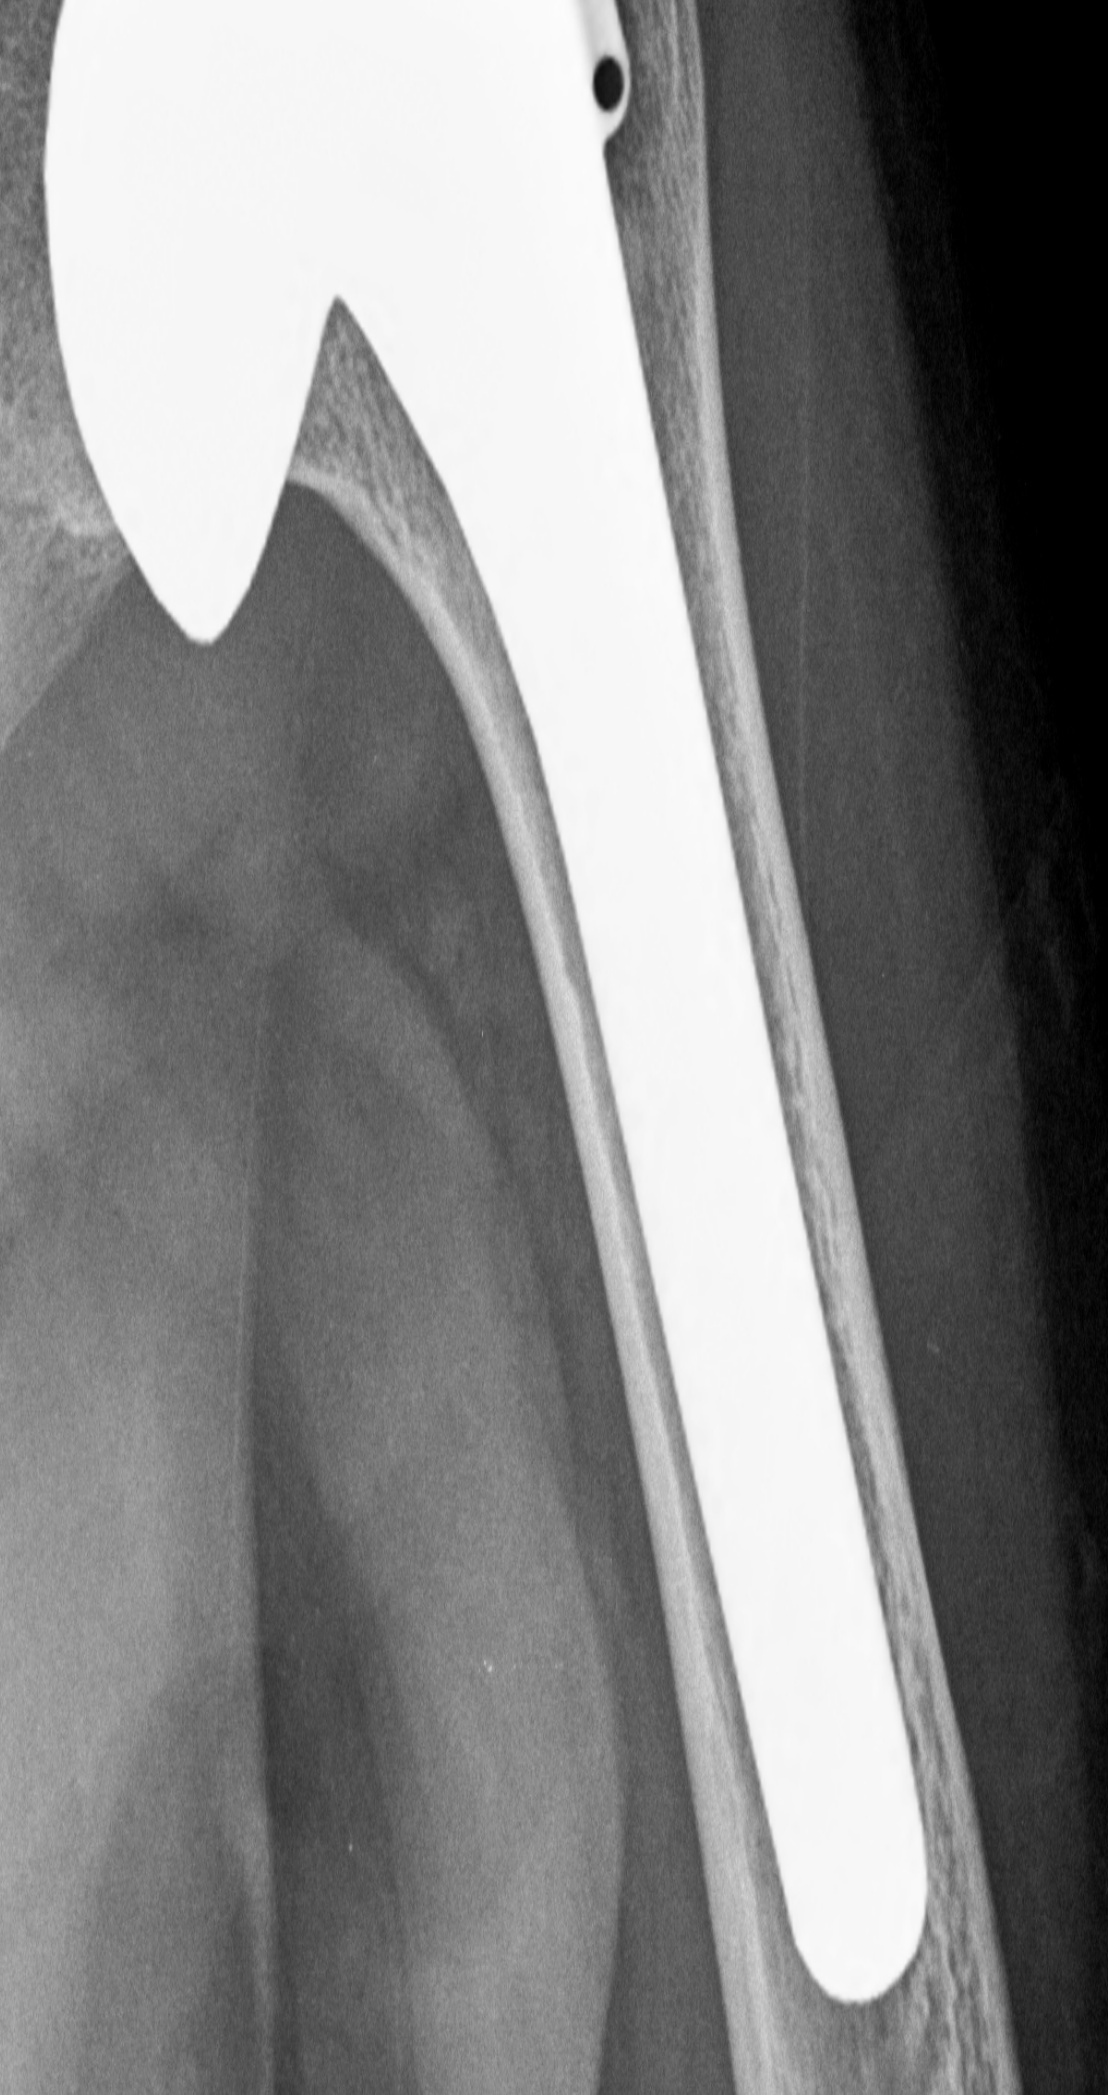Shoulder - AequalisPressfit - Tornier: (30, 1, 662, 669)
